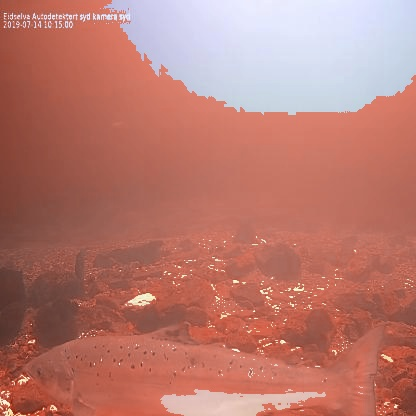salmon: (22, 316, 390, 416)
